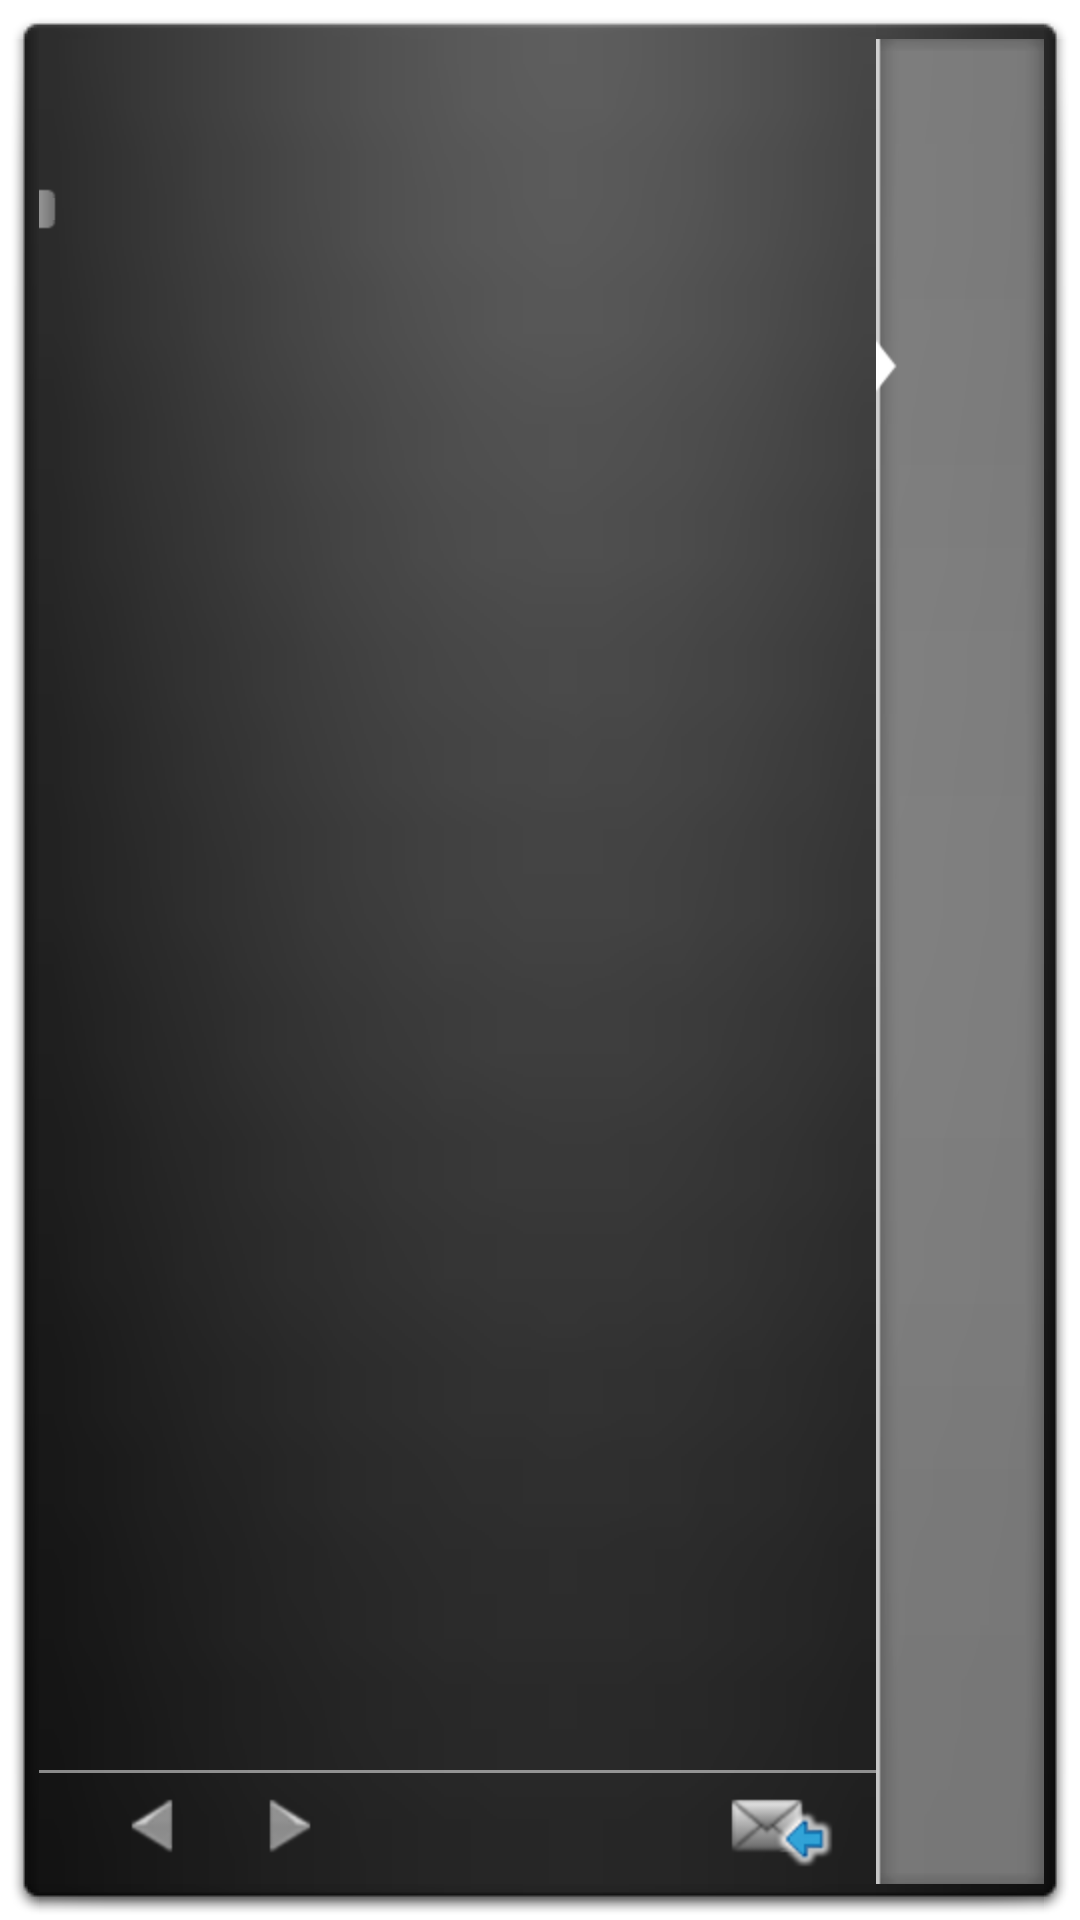

Icon click points for this 1080w x 1920h phone screenshot, format point (x, y):
arrow left: point (152, 1826)
arrow right: point (289, 1825)
reply: point (781, 1832)
